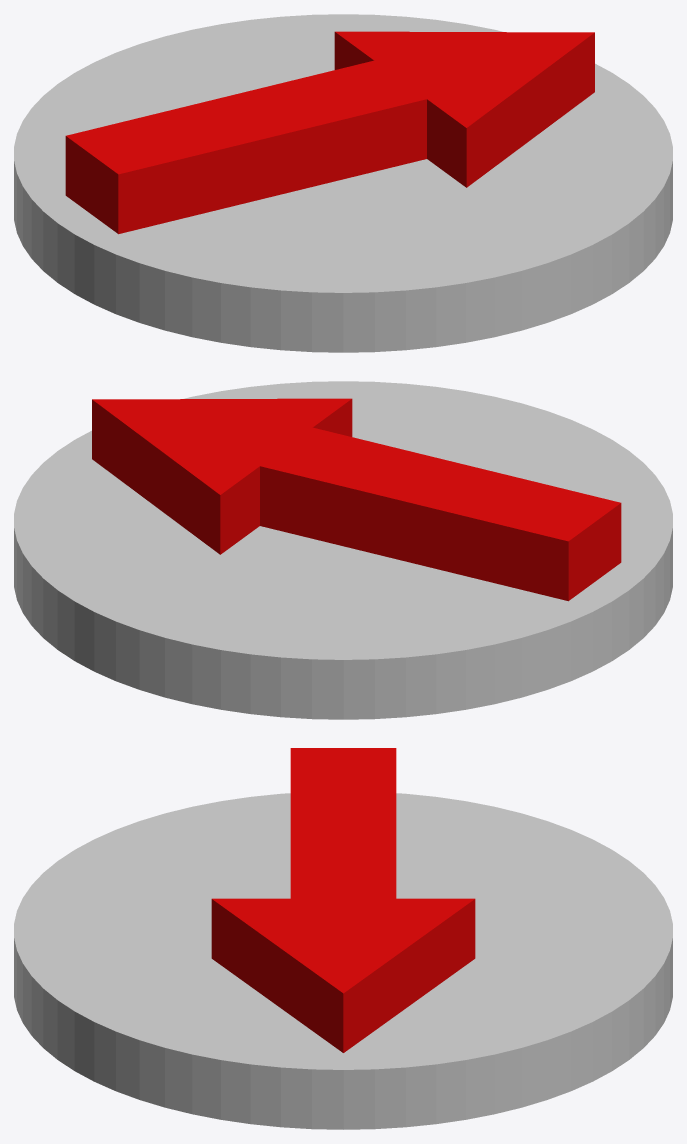
The model's file is board.dae.
The picture shows the model from 3 angles, top to bottom: view 1: azimuth 30°, elevation 25°; view 2: azimuth 150°, elevation 25°; view 3: azimuth 270°, elevation 25°; orthographic projection.
Visible parts, largest first — view 1: Arrow_Board_V2; view 2: Arrow_Board_V2; view 3: Arrow_Board_V2.
Boxes of the visible parts, <box> form: Arrow_Board_V2: <box>14,14,672,352</box>; Arrow_Board_V2: <box>14,381,672,719</box>; Arrow_Board_V2: <box>14,748,672,1129</box>.
Bounding box in the file's own units: 0.5 × 0.4994 × 0.1.
